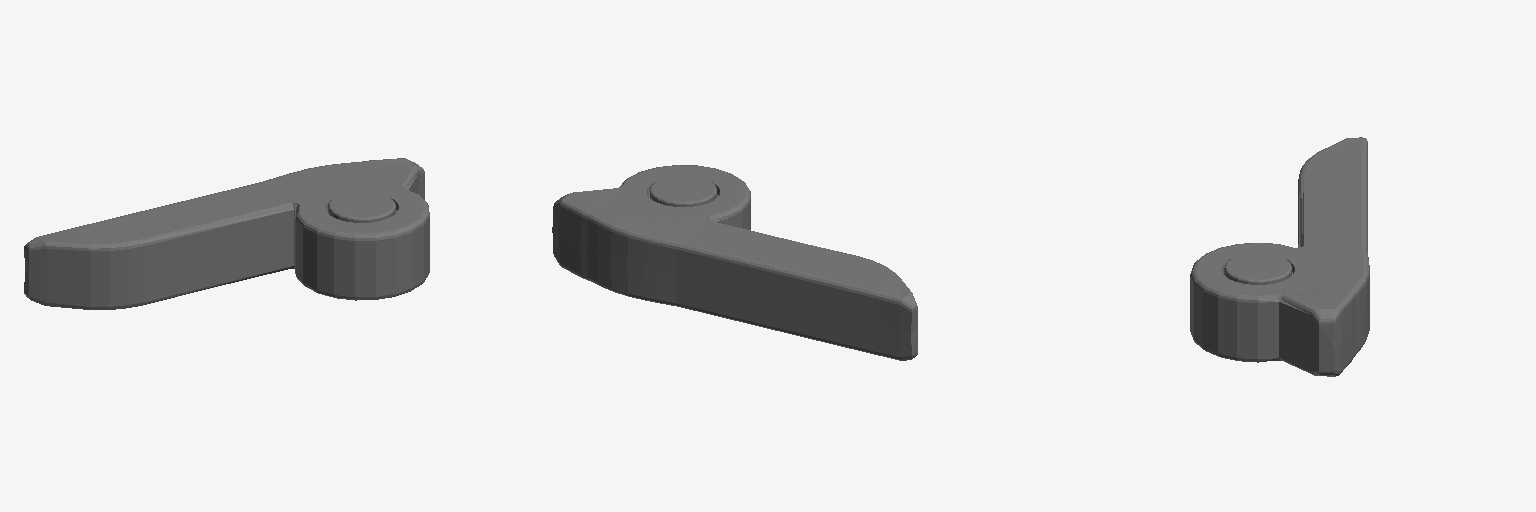
File: Zombie_Sword_Lever.obj
The picture shows the model from 3 angles: view 1: azimuth 30°, elevation 25°; view 2: azimuth 150°, elevation 25°; view 3: azimuth 270°, elevation 25°; orthographic projection.
Parts seen in each view (by area): view 1: Zombie_Sword_Lever; view 2: Zombie_Sword_Lever; view 3: Zombie_Sword_Lever.
Part boxes in pixels (x1,y1,x2,y2): Zombie_Sword_Lever: (24, 158, 429, 309); Zombie_Sword_Lever: (552, 165, 917, 360); Zombie_Sword_Lever: (1190, 137, 1369, 376).
Bounding box in the file's own units: 2.54 × 0.4668 × 1.05.